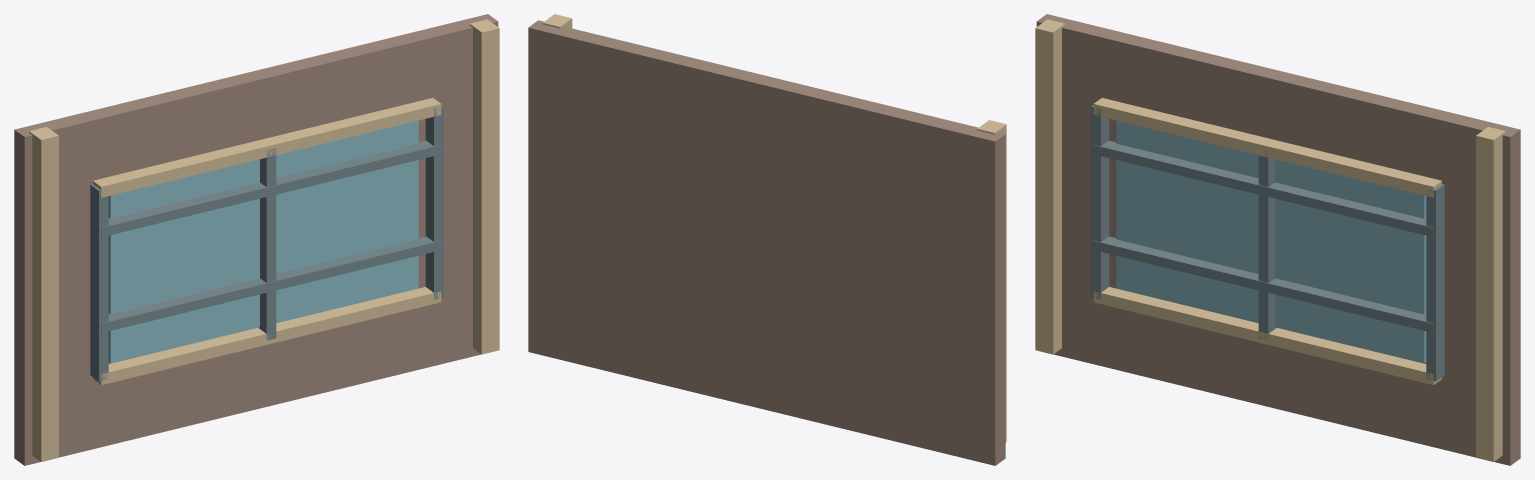
The model's file is gallery-window-panel.glb.
3 views of the same model, side by side, from view 1: azimuth 30°, elevation 25°; view 2: azimuth 150°, elevation 25°; view 3: azimuth 330°, elevation 25° (orthographic).
Visible parts, largest first — view 1: gallery-window-panel-0, gallery-window-panel-1, gallery-window-panel-10, gallery-window-panel-9, gallery-window-panel-2, gallery-window-panel-3, gallery-window-panel-8, gallery-window-panel-7, gallery-window-panel-4, gallery-window-panel-6, gallery-window-panel-5; view 2: gallery-window-panel-0, gallery-window-panel-9; view 3: gallery-window-panel-0, gallery-window-panel-1, gallery-window-panel-9, gallery-window-panel-10, gallery-window-panel-2, gallery-window-panel-3, gallery-window-panel-8, gallery-window-panel-7, gallery-window-panel-6, gallery-window-panel-4, gallery-window-panel-5.
Boxes of the visible parts, box(x1,y1,x2,y2) form: gallery-window-panel-0: box(14, 14, 498, 465); gallery-window-panel-1: box(108, 120, 418, 363); gallery-window-panel-10: box(469, 19, 499, 354); gallery-window-panel-9: box(29, 127, 58, 461); gallery-window-panel-2: box(93, 98, 441, 197); gallery-window-panel-3: box(93, 287, 441, 385); gallery-window-panel-8: box(101, 140, 441, 236); gallery-window-panel-7: box(101, 236, 441, 332); gallery-window-panel-4: box(90, 184, 108, 381); gallery-window-panel-6: box(425, 105, 443, 299); gallery-window-panel-5: box(258, 148, 276, 340); gallery-window-panel-0: box(528, 20, 1005, 465); gallery-window-panel-9: box(977, 120, 1006, 442); gallery-window-panel-0: box(1036, 14, 1520, 465); gallery-window-panel-1: box(1116, 120, 1426, 363); gallery-window-panel-9: box(1035, 19, 1065, 354); gallery-window-panel-10: box(1476, 127, 1505, 461); gallery-window-panel-2: box(1093, 98, 1441, 197); gallery-window-panel-3: box(1093, 287, 1441, 385); gallery-window-panel-8: box(1093, 140, 1433, 236); gallery-window-panel-7: box(1093, 236, 1433, 332); gallery-window-panel-6: box(1426, 184, 1444, 381); gallery-window-panel-4: box(1091, 105, 1109, 299); gallery-window-panel-5: box(1258, 152, 1276, 339).
Size of the model in its own units: 5.85 by 3.9 by 0.44.
